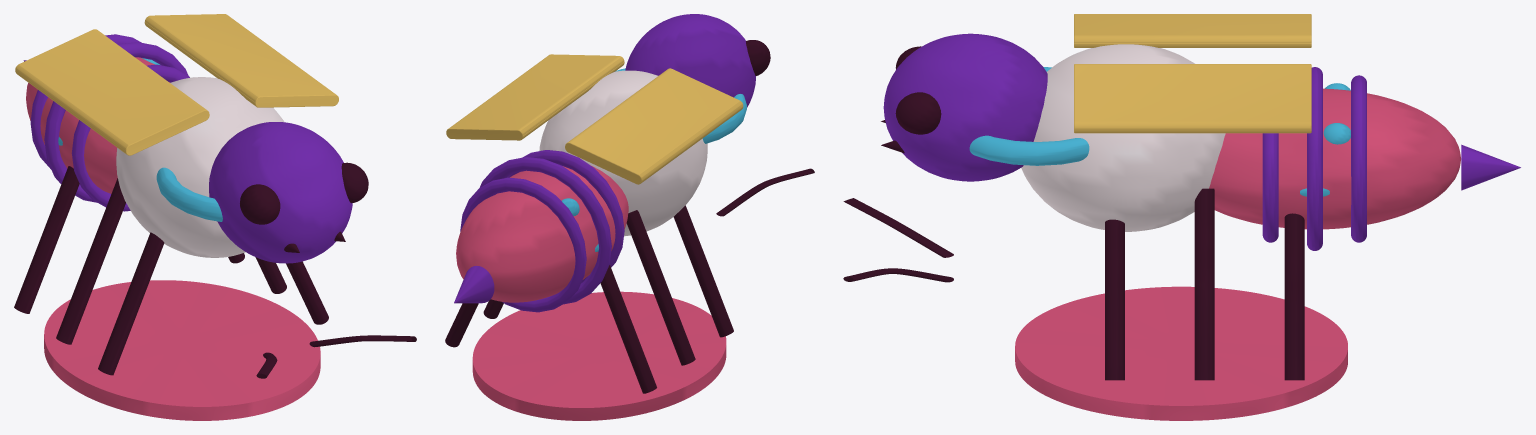
Rendered from 0017_昆虫图鉴_兰花螳螂.glb.
3 views of the same model, side by side, from view 1: azimuth 30°, elevation 25°; view 2: azimuth 150°, elevation 25°; view 3: azimuth 270°, elevation 25° (orthographic). The views are drawn at different scales.
Parts seen in each view (by area): view 1: card_0017; view 2: card_0017; view 3: card_0017.
Boxes of the visible parts, <box> form: card_0017: <box>14,14,416,420</box>; card_0017: <box>445,14,814,420</box>; card_0017: <box>843,14,1520,420</box>.
Size of the model in its own units: 0.7976 by 1 by 1.92.
